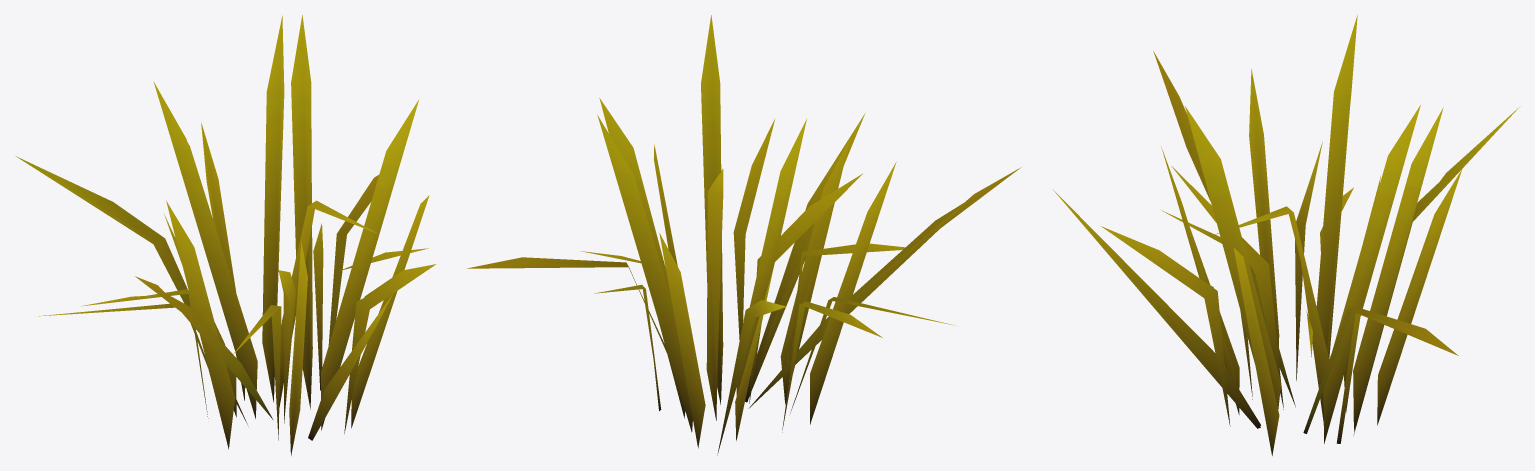
Rendered from Grass_Wispy_Short.medium.gltf.
3 views of the same model, side by side, from view 1: azimuth 30°, elevation 25°; view 2: azimuth 150°, elevation 25°; view 3: azimuth 270°, elevation 25° (orthographic). The views are drawn at different scales.
Parts seen in each view (by area): view 1: Grass_Wispy_Short; view 2: Grass_Wispy_Short; view 3: Grass_Wispy_Short.
Part boxes in pixels (x1,y1,x2,y2): Grass_Wispy_Short: [15, 15, 436, 455]; Grass_Wispy_Short: [467, 15, 1021, 455]; Grass_Wispy_Short: [1052, 15, 1520, 455].
Bounding box in the file's own units: 1.32 × 1.07 × 1.21.
1 material, 1 textured.
